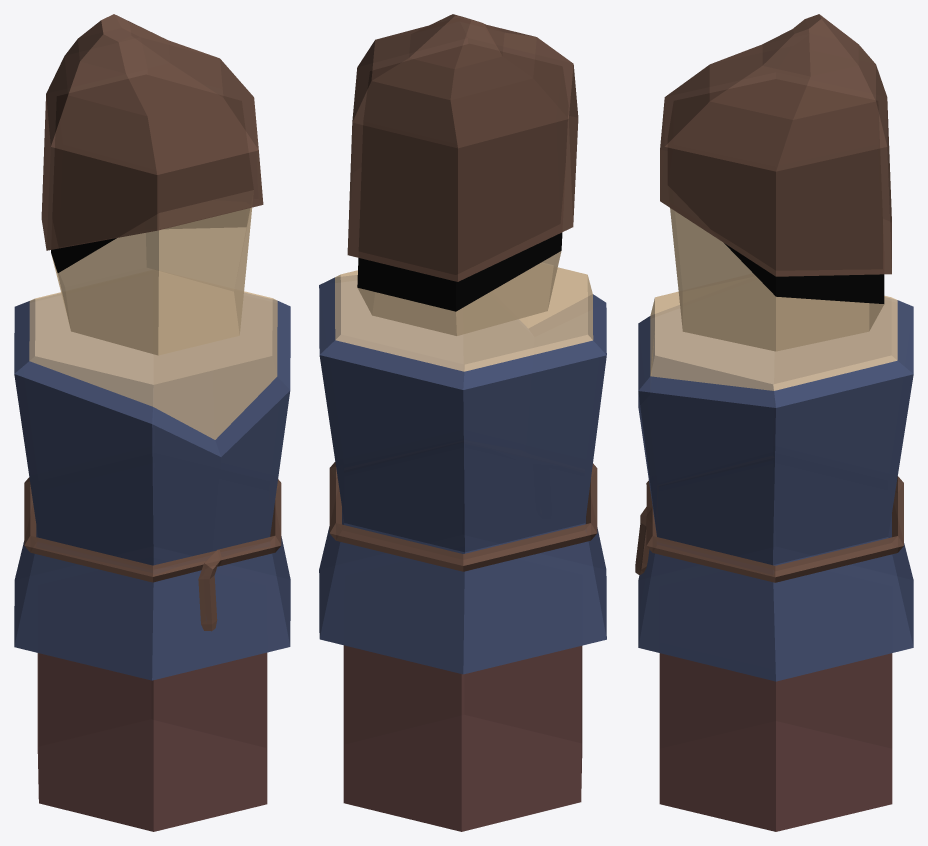
The model's file is Person2Fix.fbx.
3 views of the same model, side by side, from view 1: azimuth 30°, elevation 25°; view 2: azimuth 150°, elevation 25°; view 3: azimuth 270°, elevation 25° (orthographic). The views are drawn at different scales.
Visible parts, largest first — view 1: Person2; view 2: Person2; view 3: Person2.
Part boxes in pixels (x1,y1,x2,y2): Person2: (14, 14, 290, 831); Person2: (319, 14, 606, 831); Person2: (635, 14, 913, 831).
Size of the model in its own units: 42.84 by 111 by 37.31.
